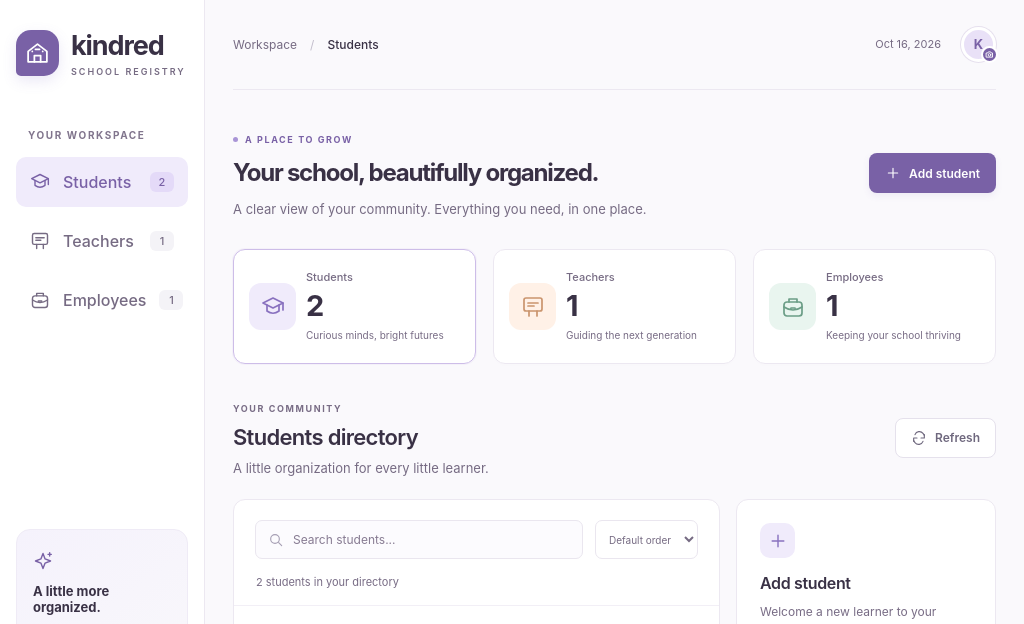
keeps last loaded records visible when a refresh fails
The image size is (1024, 624).
Click the button "Refresh". click: (946, 438)
box: [895,418,996,458]
(page scrolled)
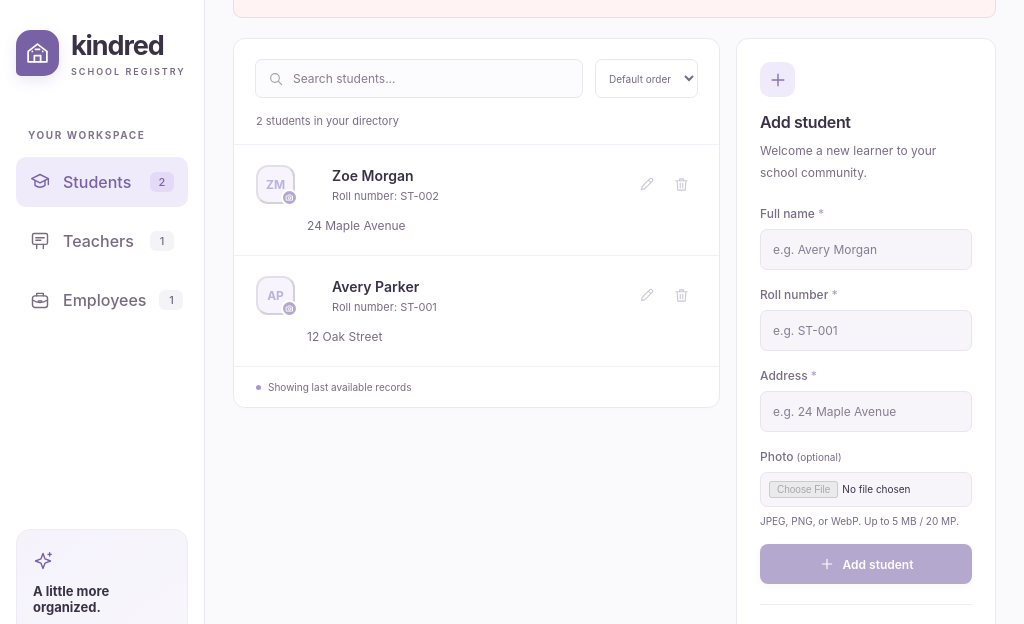
Check: the text "Zoe Morgan" is shown, box [332,166,414,184]
Check: the button named "Edit Zoe Morgan" is disabled, box [631,169,662,200]
Check: the text "Showing last available records" is shown, box [234,366,719,407]
